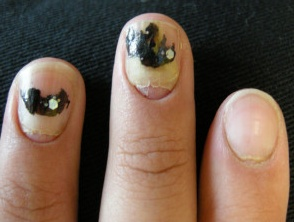SJS-TEN: (111, 4, 204, 124), (8, 51, 89, 158)
